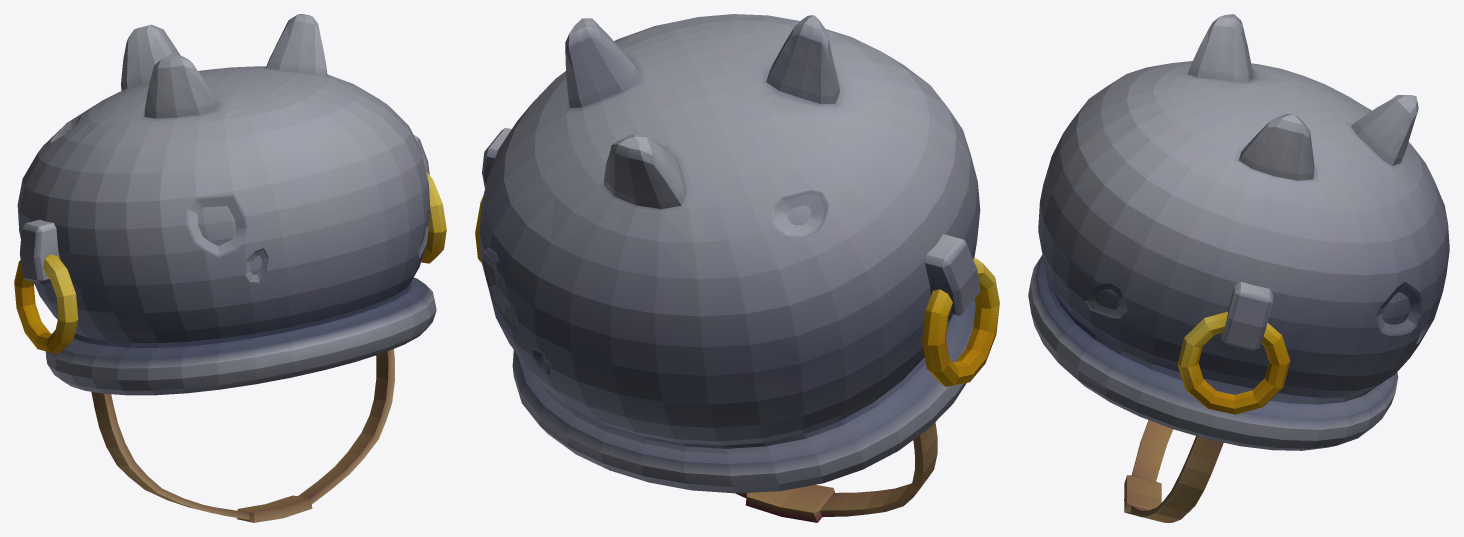
The model's file is WitchAngelaHelmet.glb.
3 views of the same model, side by side, from view 1: azimuth 30°, elevation 25°; view 2: azimuth 150°, elevation 25°; view 3: azimuth 270°, elevation 25° (orthographic). The views are drawn at different scales.
Parts seen in each view (by area): view 1: WitchAngelaHelmet; view 2: WitchAngelaHelmet; view 3: WitchAngelaHelmet.
Boxes of the visible parts, bbox=[...] form: WitchAngelaHelmet: bbox=[14, 14, 446, 522]; WitchAngelaHelmet: bbox=[475, 14, 999, 522]; WitchAngelaHelmet: bbox=[1028, 14, 1449, 522].
Bounding box in the file's own units: 0.6665 × 0.7246 × 0.5971.
